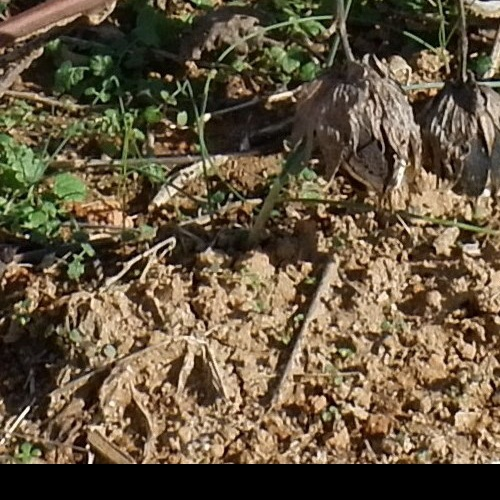immature_boll: (268, 35, 500, 206)
